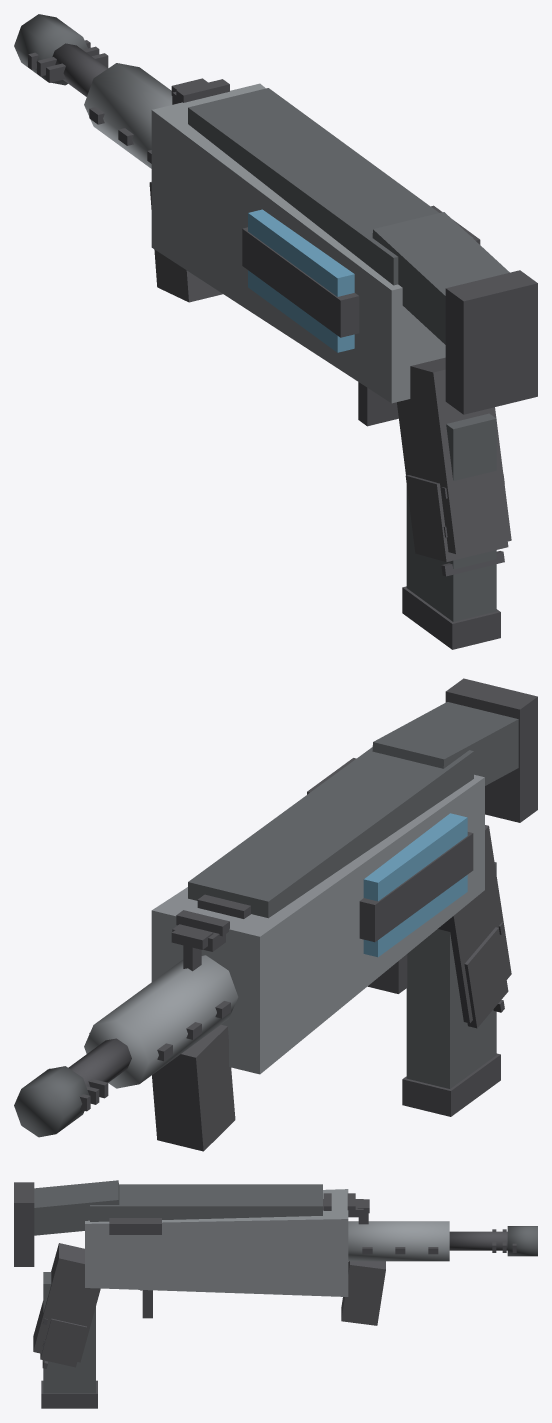
The model's file is wpn_pulse_ar.glb.
3 views of the same model, one above another, from view 1: azimuth 30°, elevation 25°; view 2: azimuth 150°, elevation 25°; view 3: azimuth 270°, elevation 25° (orthographic). The views are drawn at different scales.
Visible parts, largest first — view 1: wpn_pulse_ar; view 2: wpn_pulse_ar; view 3: wpn_pulse_ar.
Boxes of the visible parts, box(x1,y1,x2,y2) form: wpn_pulse_ar: box(14, 14, 537, 649); wpn_pulse_ar: box(14, 678, 537, 1151); wpn_pulse_ar: box(14, 1180, 537, 1408).
Bounding box in the file's own units: 0.0839 × 0.2306 × 0.517.
